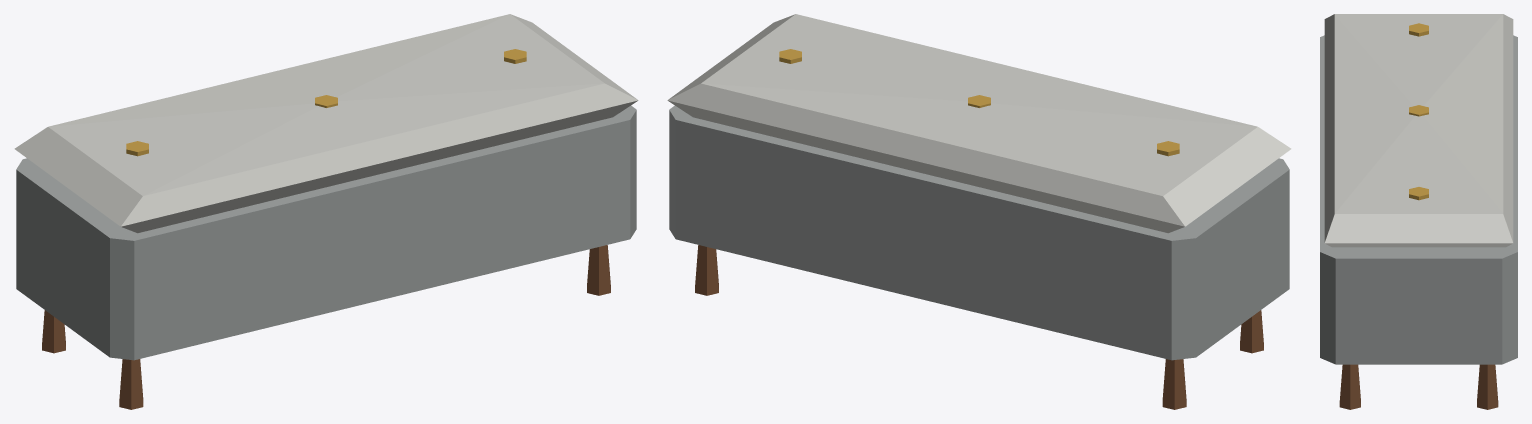
File: SM_LPI_Bed_Ottoman_01.fbx
3 renders of one model, left to right at view 1: azimuth 30°, elevation 25°; view 2: azimuth 150°, elevation 25°; view 3: azimuth 270°, elevation 25°, orthographic. The views are drawn at different scales.
Visible parts, largest first — view 1: SM_LPI_Bed_Ottoman_01; view 2: SM_LPI_Bed_Ottoman_01; view 3: SM_LPI_Bed_Ottoman_01.
Part boxes in pixels (x1,y1,x2,y2): SM_LPI_Bed_Ottoman_01: (14,14,638,409); SM_LPI_Bed_Ottoman_01: (667,14,1291,409); SM_LPI_Bed_Ottoman_01: (1320,14,1517,409).
Size of the model in its own units: 1.2 by 0.475 by 0.44.
